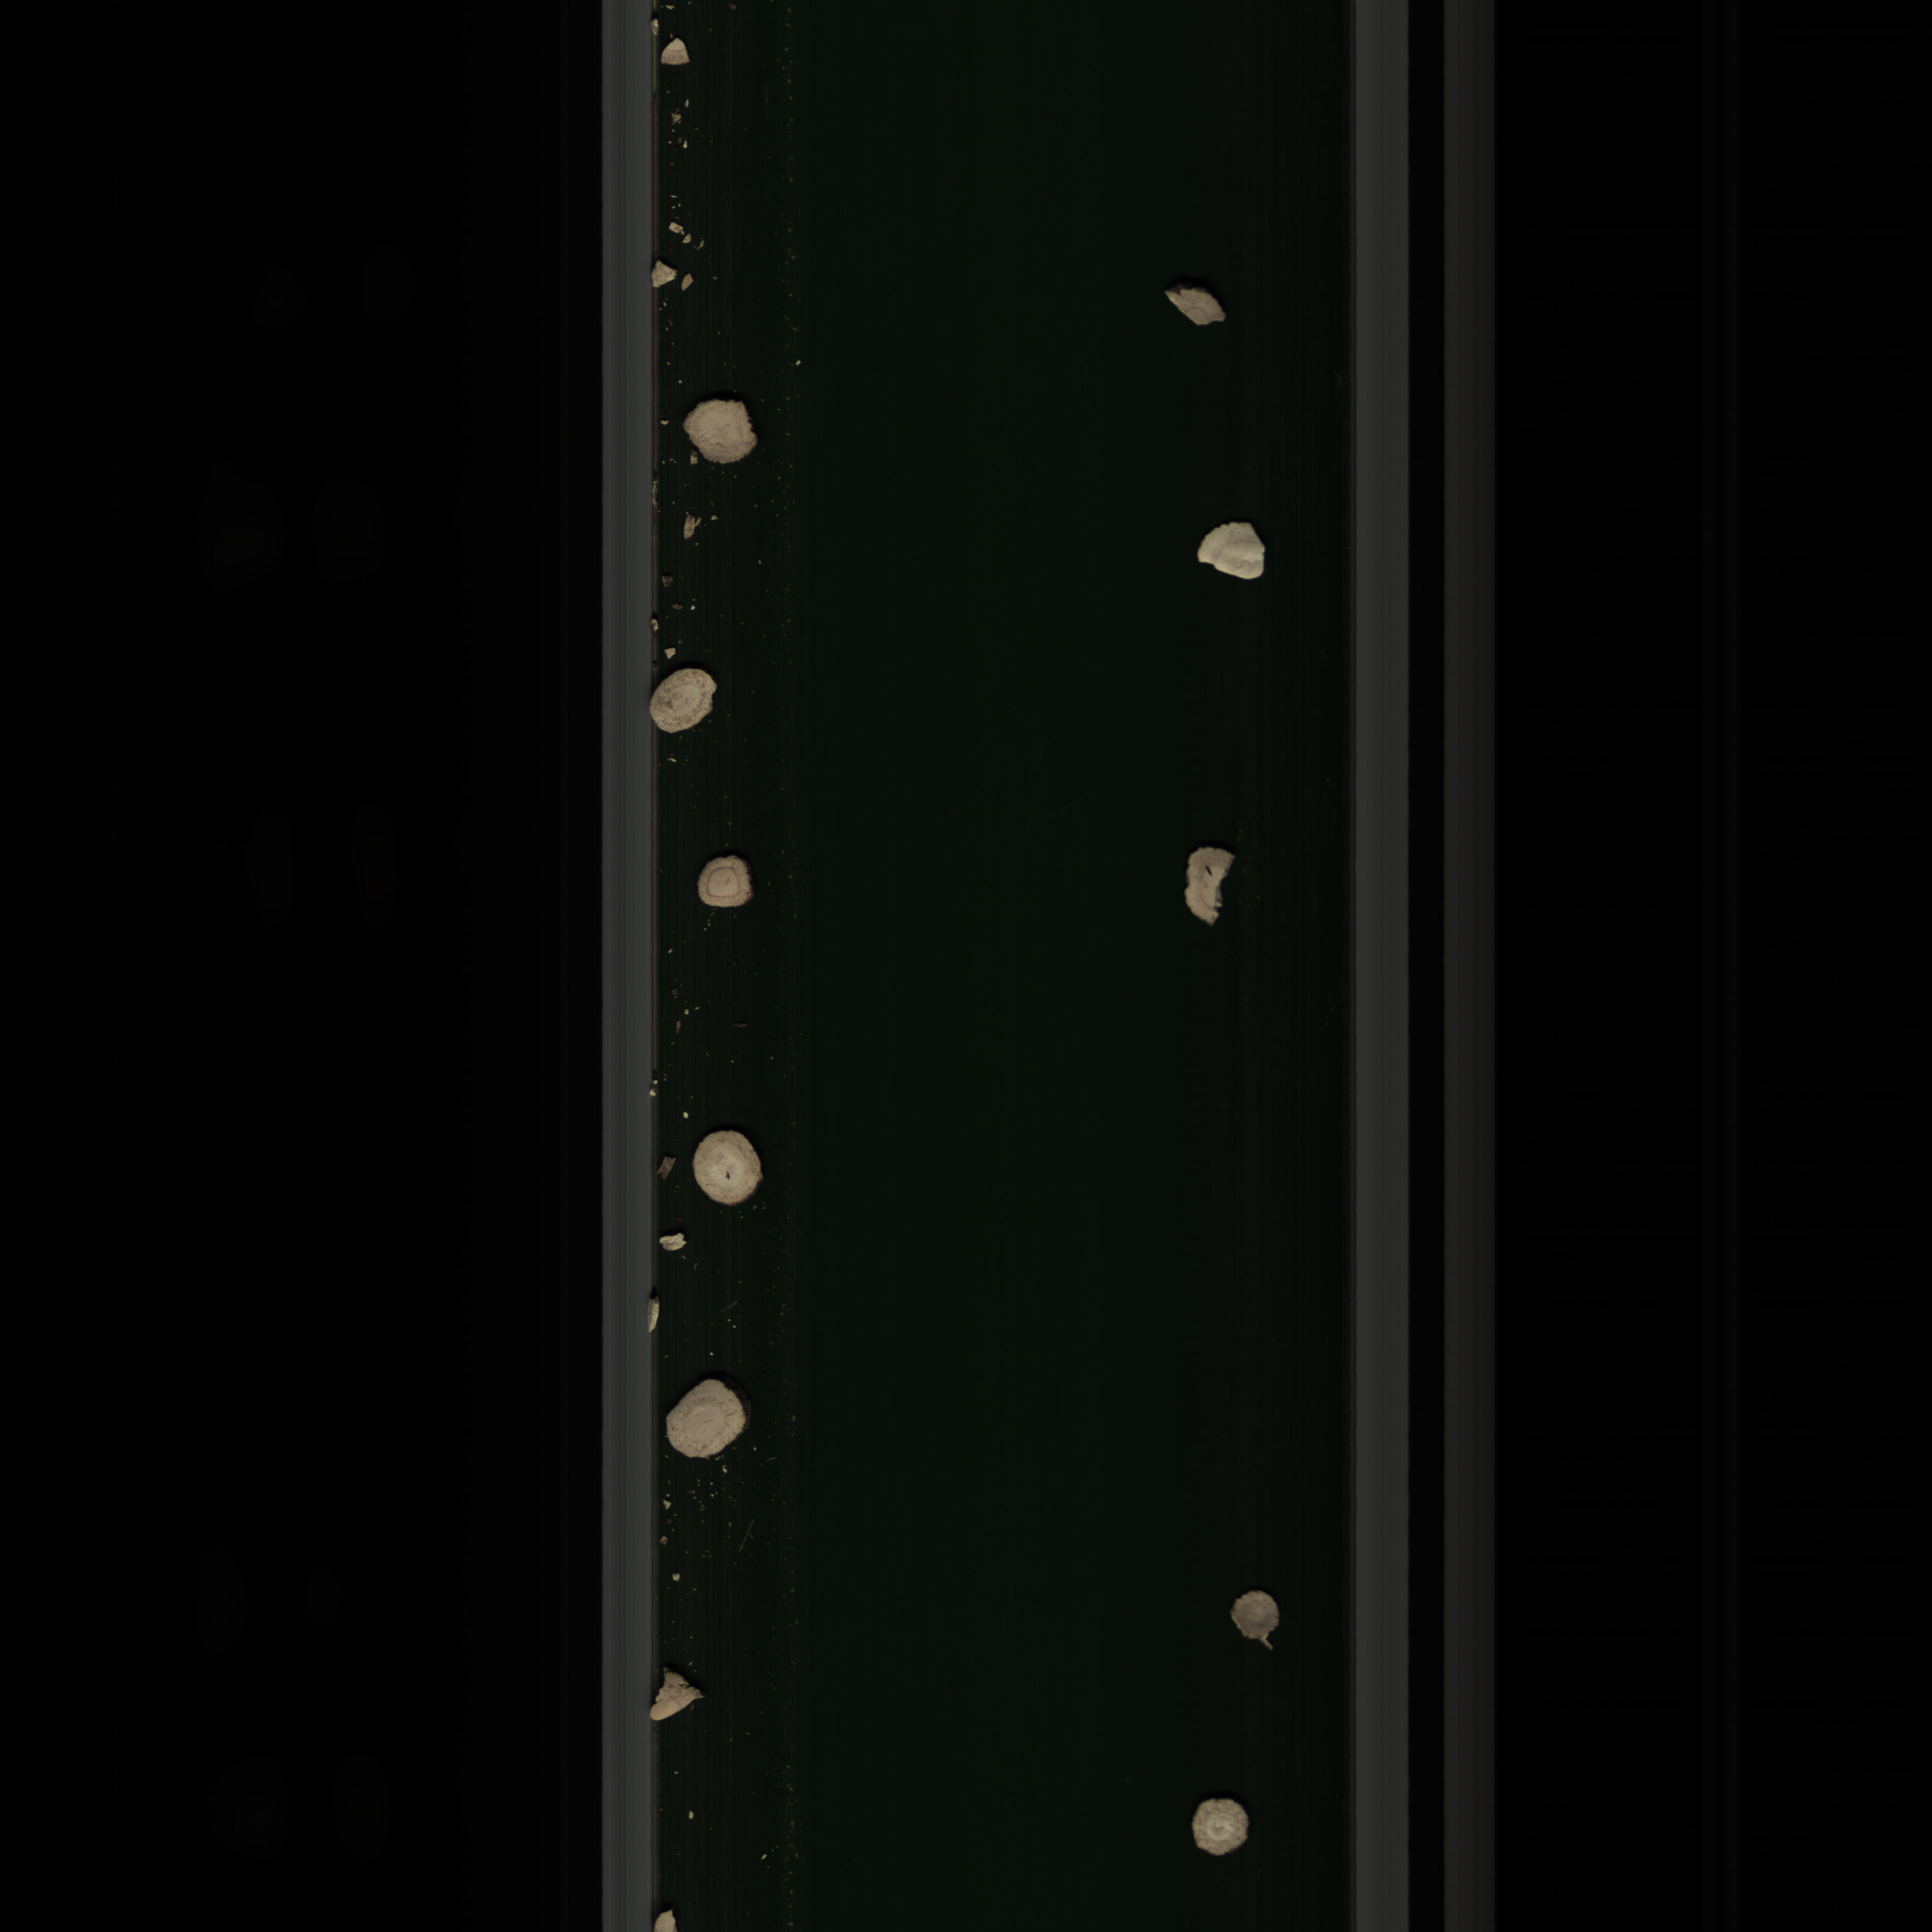debris: (1189, 513, 1270, 596), (1184, 840, 1238, 941), (646, 1665, 720, 1725), (1159, 281, 1230, 331)
hole: (692, 1129, 780, 1214)
